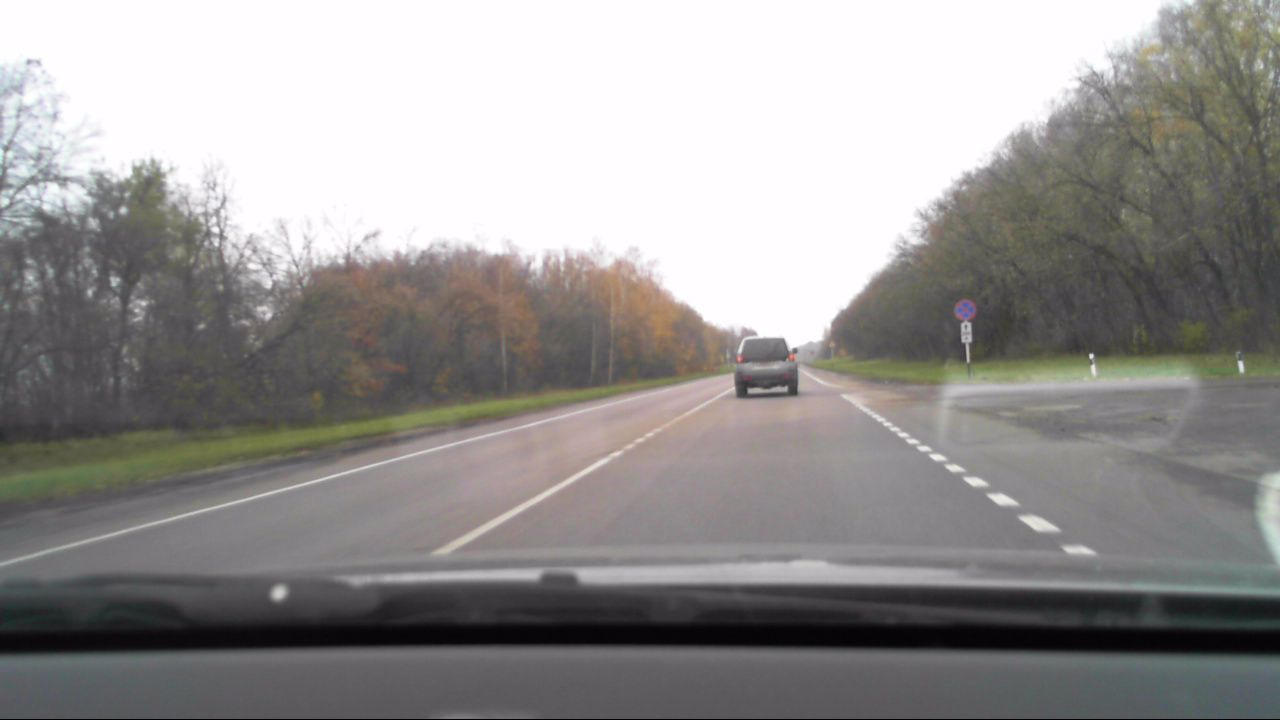No Parking: (953, 298, 976, 321)
